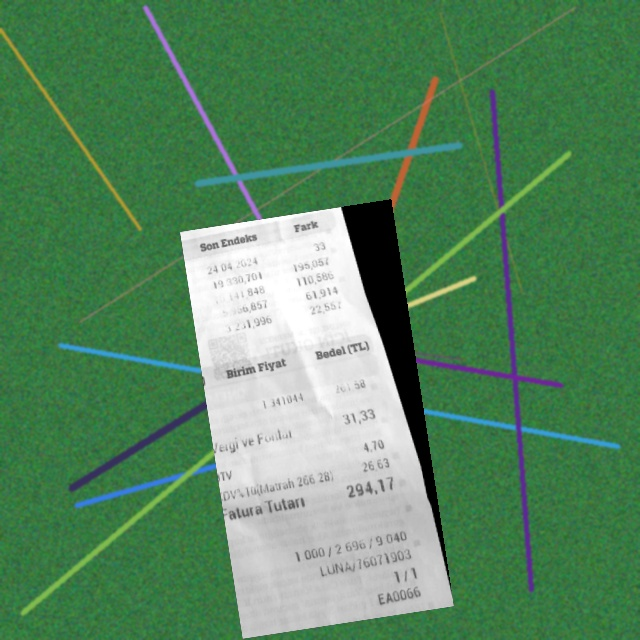electricity-bill: (179, 198, 453, 638)
